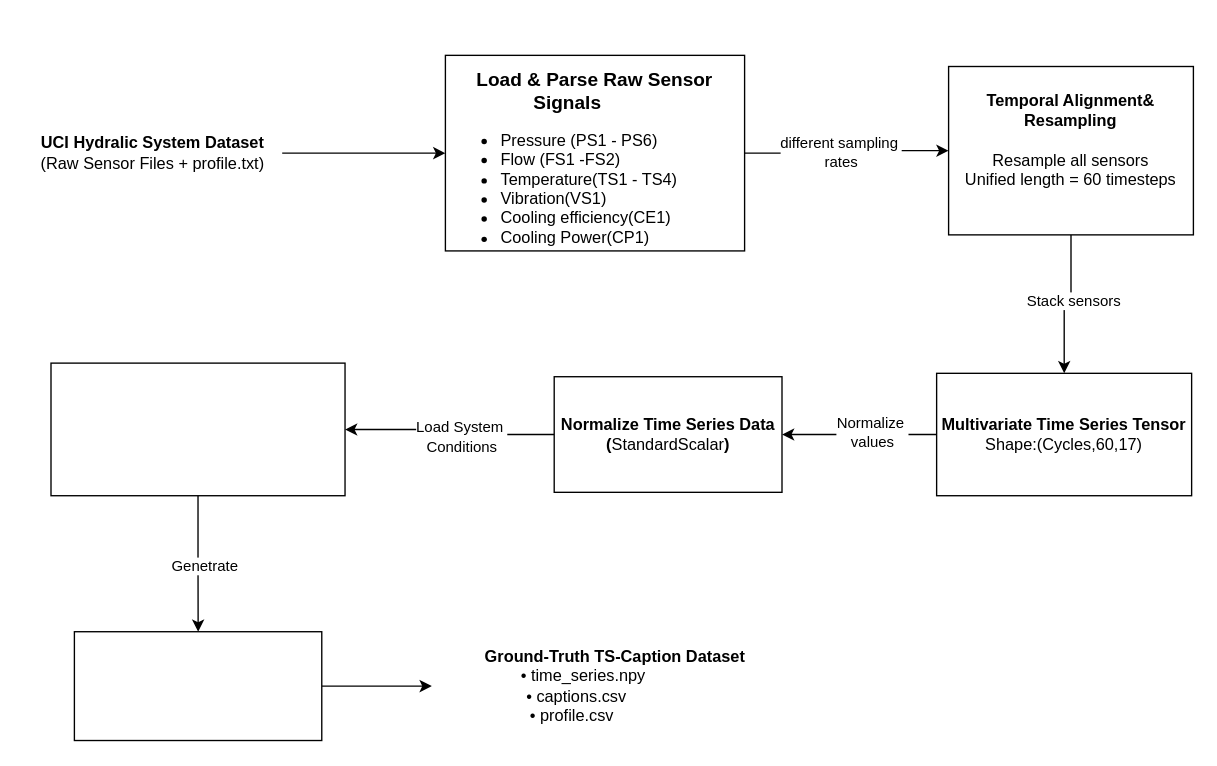
Some shapes in this 1217 by 766 pixel diagram are drawn without their labels. The shapes that lost their labels are listed below. From the top down, each one's centre as x and y in pixels, then its label:
At (x=197, y=429): "Rule Based Mapping".
At (x=197, y=685): "Ground Truth Caption (Sensor trends + system states)".
